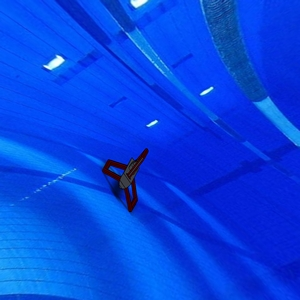submarine: (102, 149, 158, 215)
